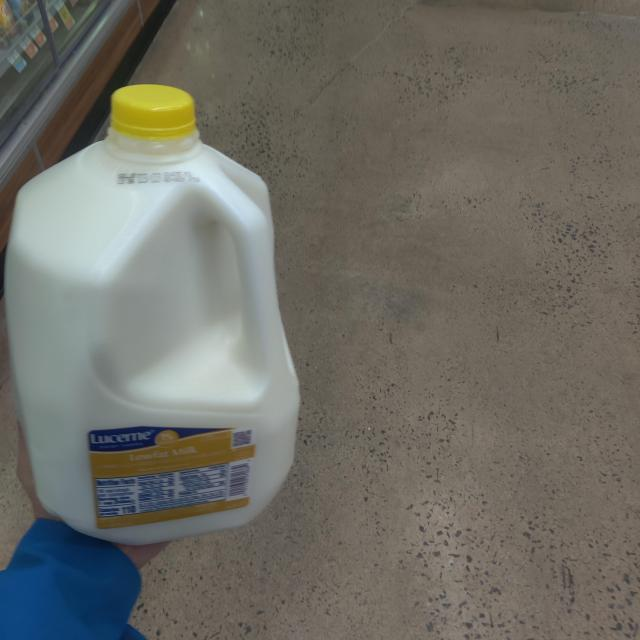Milk: (0, 88, 302, 536)
